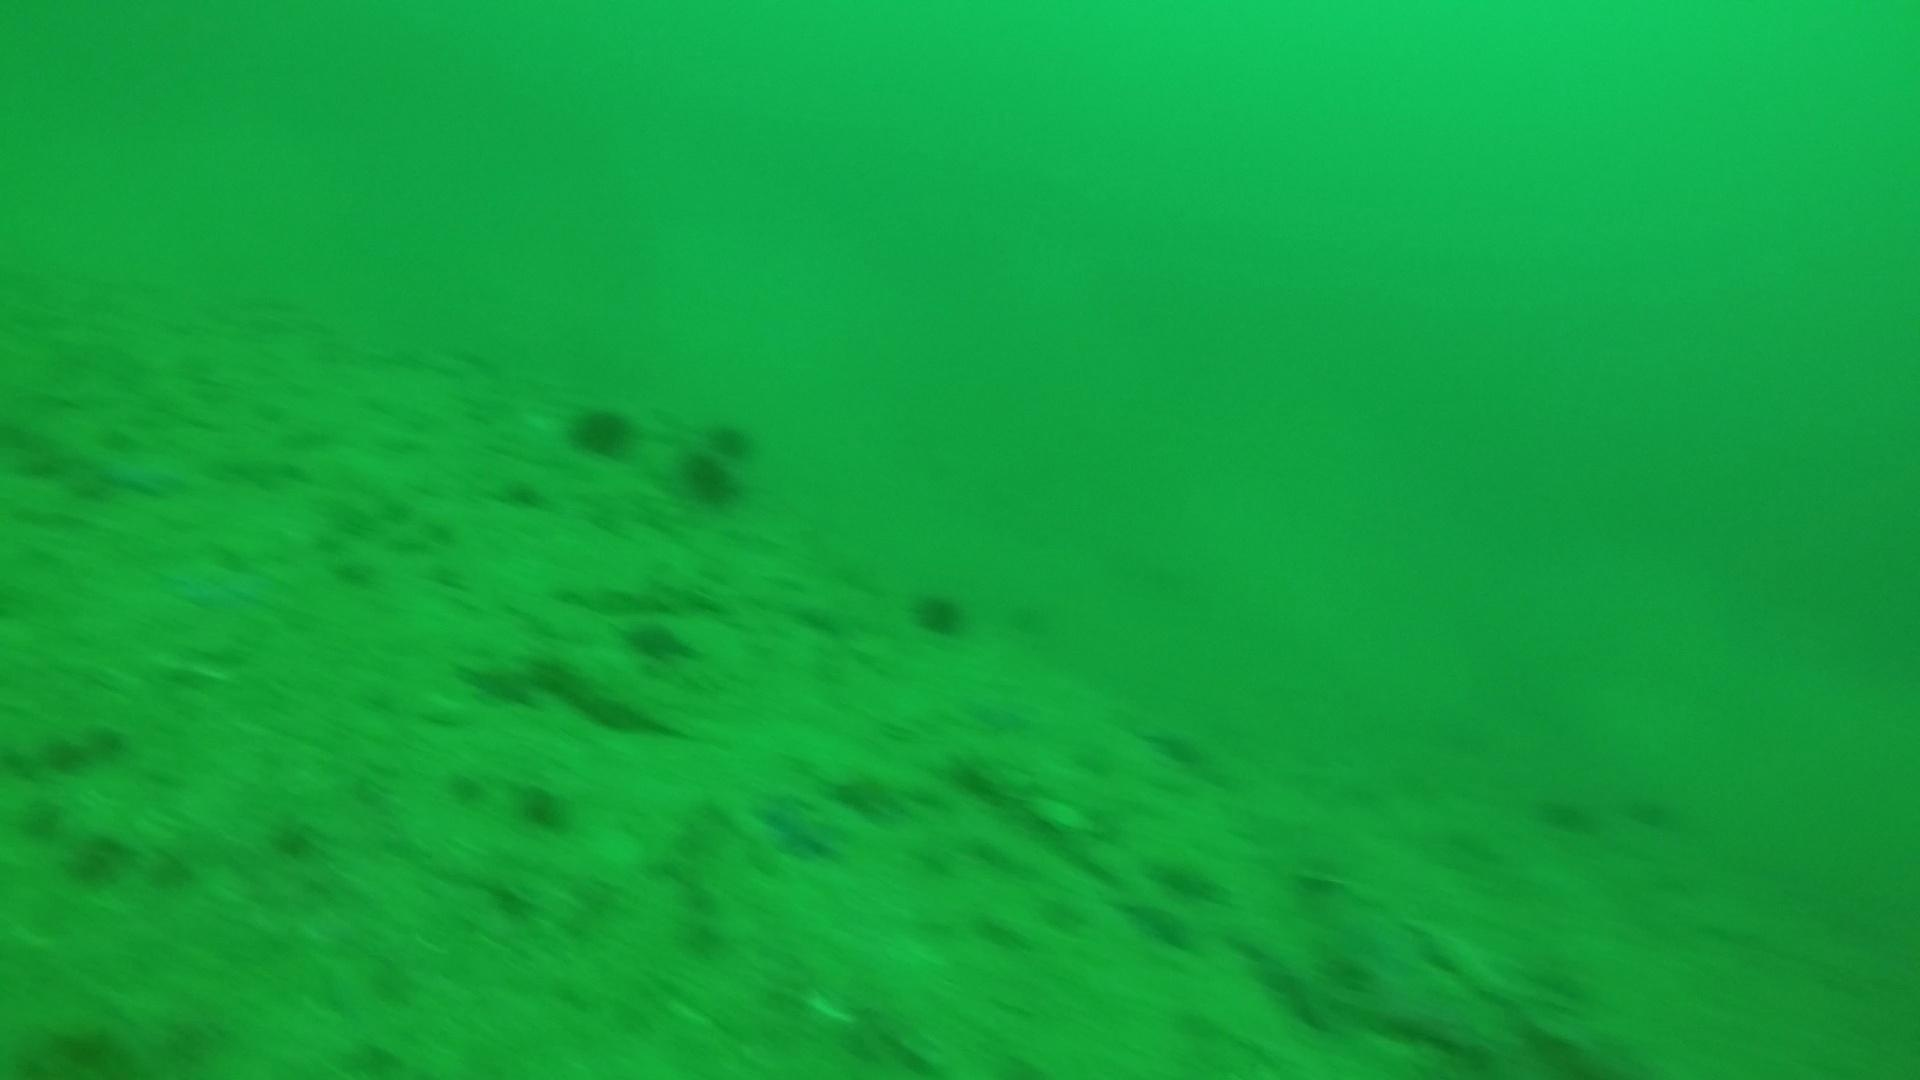echinus: (564, 396, 638, 460), (510, 778, 578, 837), (678, 444, 746, 502), (907, 583, 971, 640), (1532, 785, 1598, 837), (705, 418, 756, 465)
starfish: (156, 549, 280, 615), (752, 787, 855, 864), (94, 442, 196, 500)
